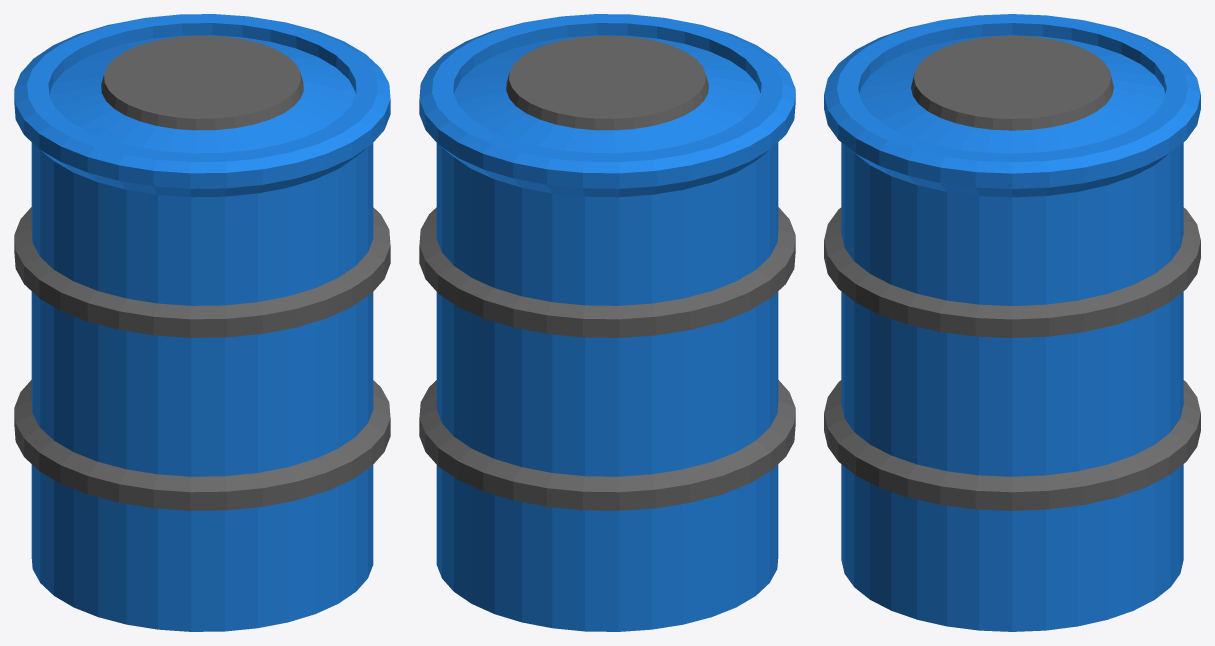
The model's file is Barrel.fbx.
3 renders of one model, left to right at view 1: azimuth 30°, elevation 25°; view 2: azimuth 150°, elevation 25°; view 3: azimuth 270°, elevation 25°, orthographic.
Parts seen in each view (by area): view 1: Cylinder; view 2: Cylinder; view 3: Cylinder.
Boxes of the visible parts, bbox=[...] form: Cylinder: bbox=[14, 14, 390, 631]; Cylinder: bbox=[419, 14, 795, 631]; Cylinder: bbox=[824, 14, 1200, 631].
Bounding box in the file's own units: 110 × 155 × 110.
